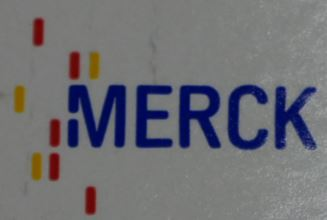Merck: (10, 16, 322, 216)
